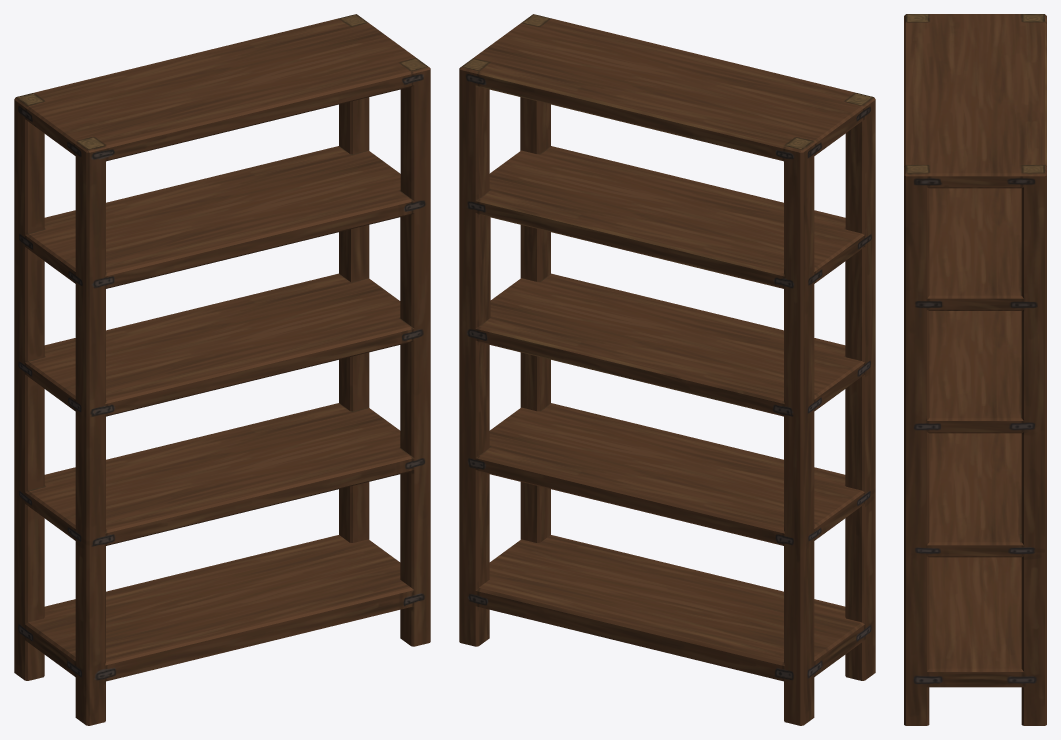
File: cage_rack.fbx
3 renders of one model, left to right at view 1: azimuth 30°, elevation 25°; view 2: azimuth 150°, elevation 25°; view 3: azimuth 270°, elevation 25°, orthographic. The views are drawn at different scales.
Parts seen in each view (by area): view 1: Cube; view 2: Cube; view 3: Cube.
Boxes of the visible parts, x1,y1,x2,y2 form: Cube: (14,14,430,725); Cube: (459,14,875,725); Cube: (904,14,1046,725).
Bounding box in the file's own units: 6002 × 9579 × 2250.
1 material, 1 textured.
